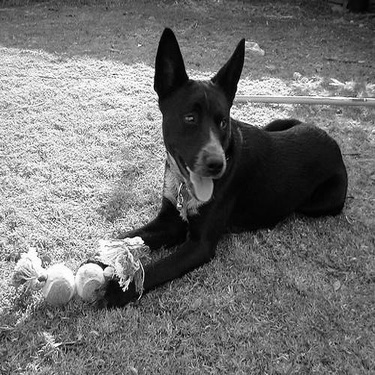dog: (57, 19, 353, 316)
